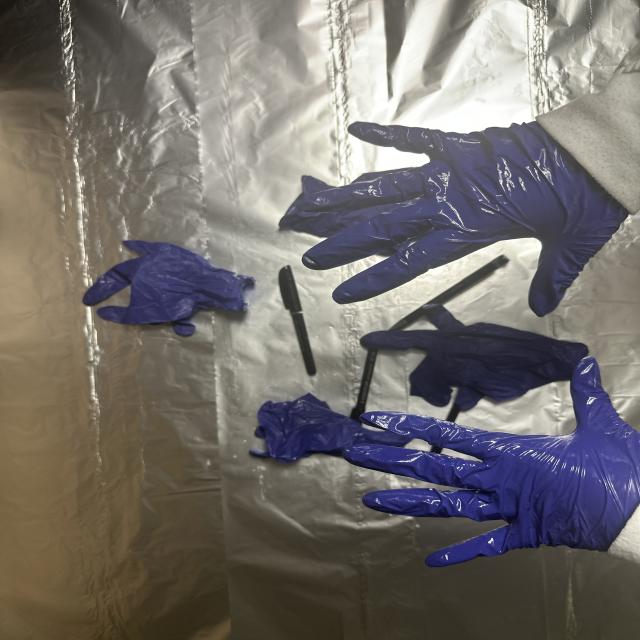gloves_contaminated: (294, 122, 628, 316), (344, 357, 640, 567)
